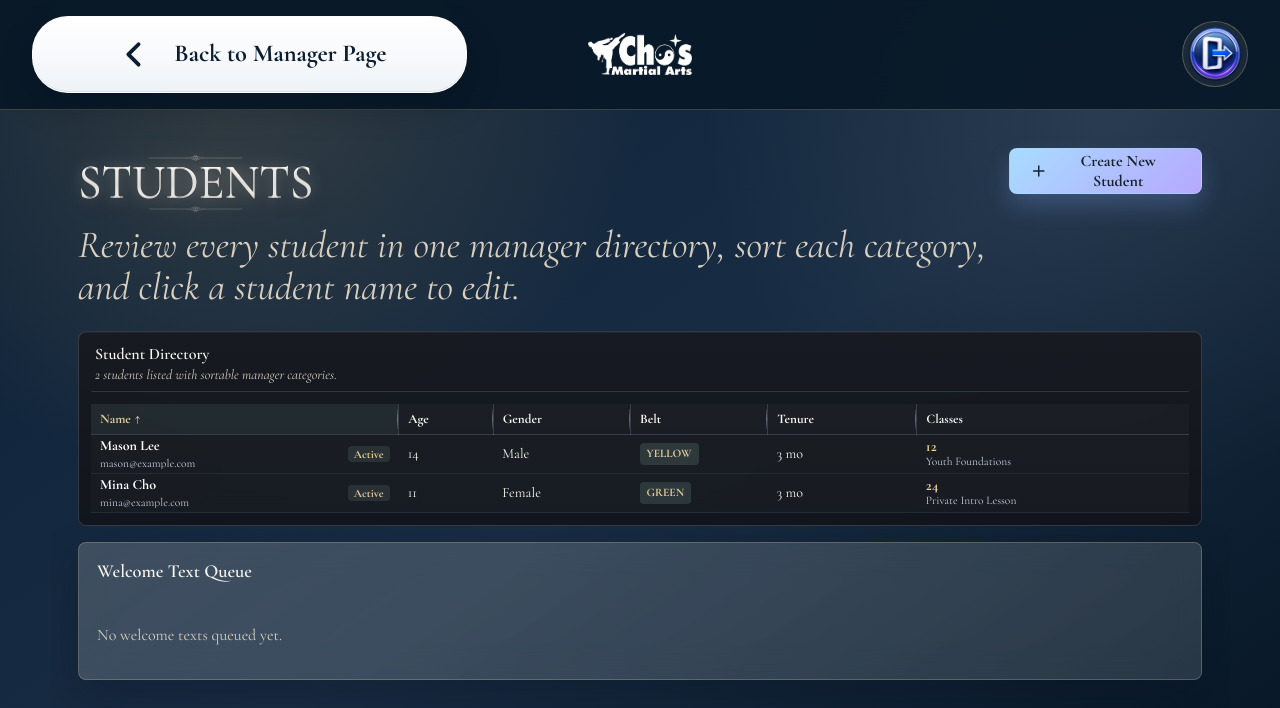
Test: post-login operations app › lets managers create a new student from the restored students page
expect the heading "Students" is shown: met, box left=78, top=162, right=313, bottom=202
expect the heading "Student Directory" is shown: met, box left=95, top=344, right=209, bottom=364
Click the button "Create New Student".
click(1105, 171)  # box left=1009, top=148, right=1202, bottom=194
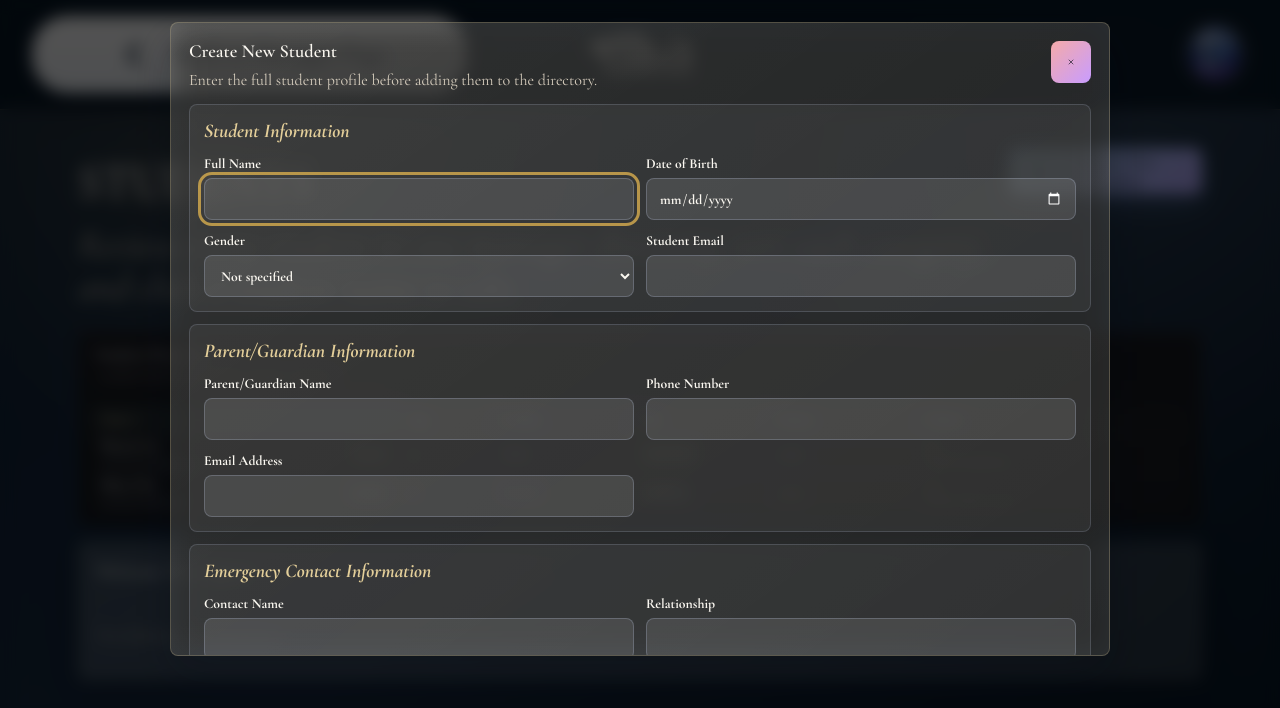
Type "Leo Park" into the field labelled "Full Name".
click(419, 199); type("Leo Park")  # box left=204, top=178, right=634, bottom=220
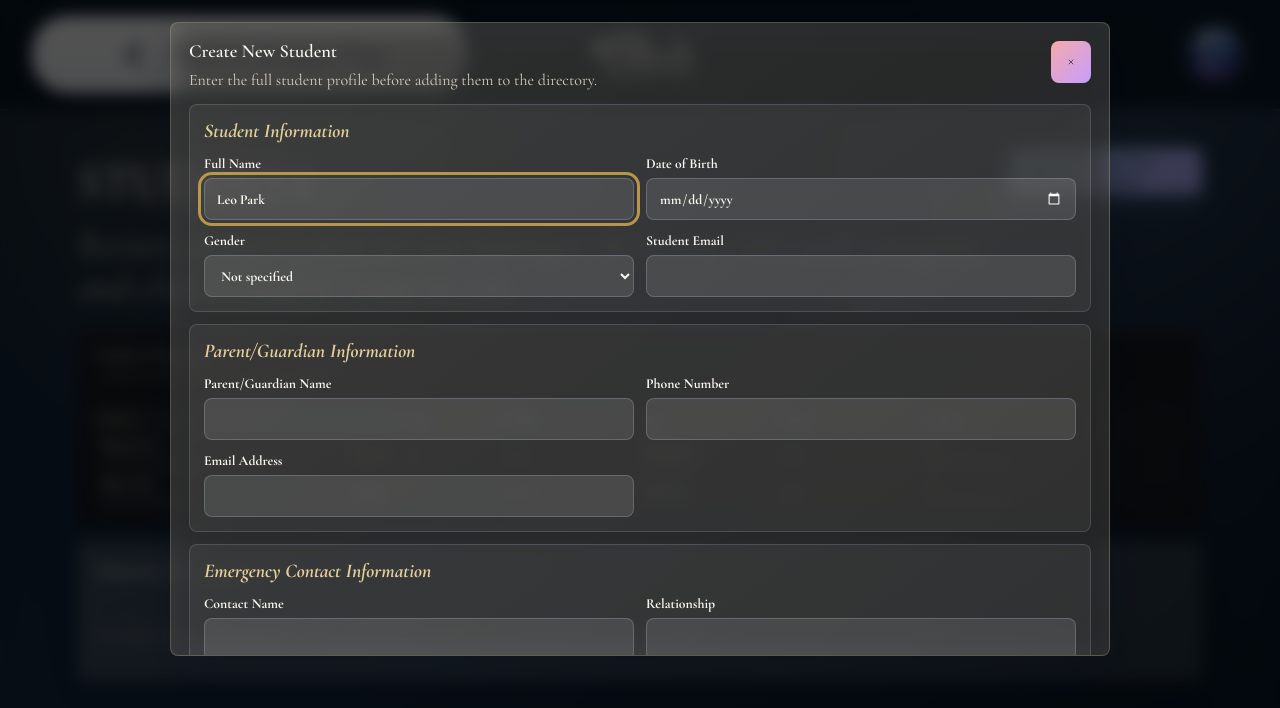
Type "leo@example.com" into the field labelled "Student Email".
click(861, 276); type("leo@example.com")  # box left=646, top=255, right=1076, bottom=297
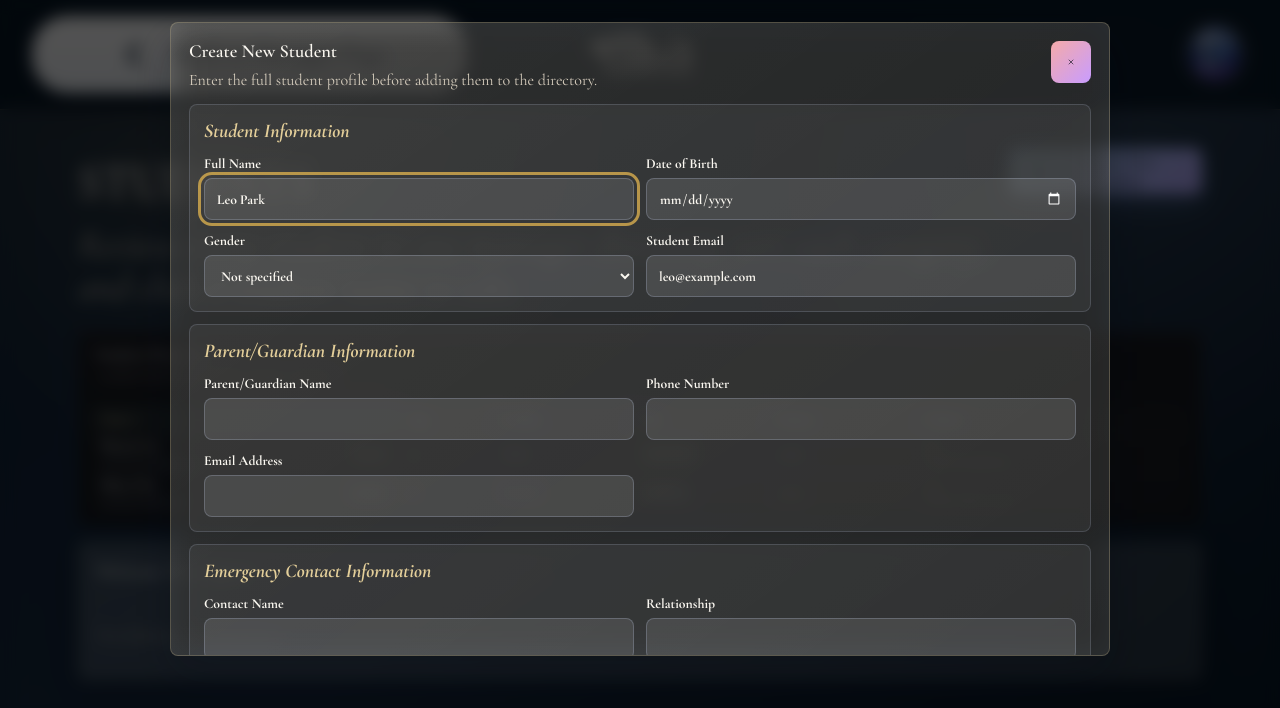
Type "(262) 555-0188" into the field named "Parent/Guardian Phone Number".
click(861, 419); type("(262) 555-0188")  # box left=646, top=398, right=1076, bottom=440
(page scrolled)
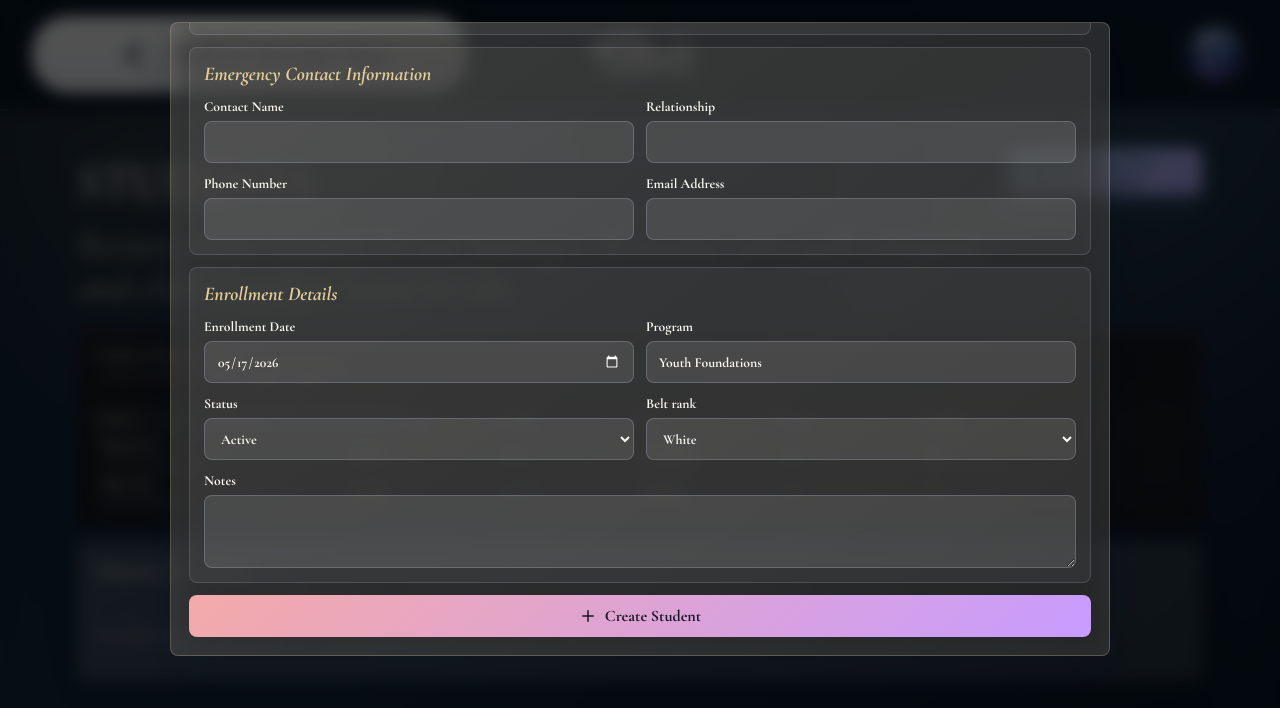
Click the button "Create Student".
click(640, 616)  # box left=189, top=595, right=1091, bottom=637
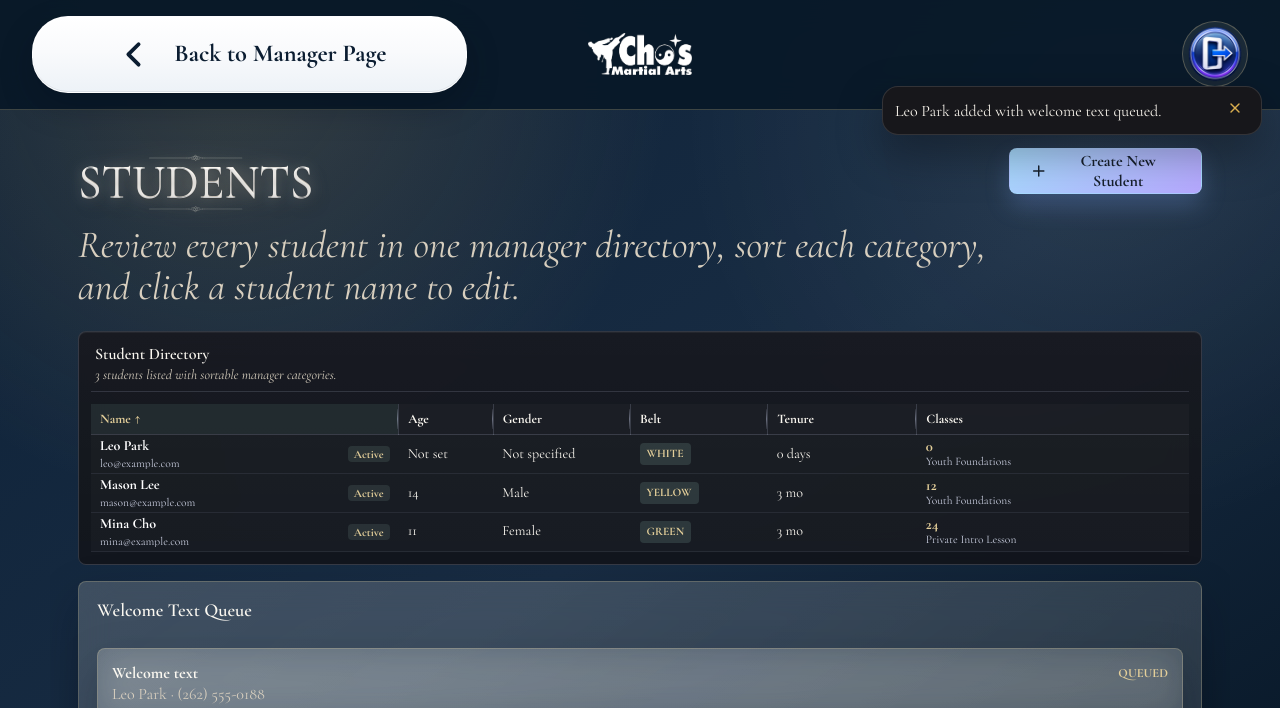
expect the text "Leo Park" is shown: met, box left=100, top=437, right=149, bottom=454
expect the text "Active" next to "Not set" is shown: met, box left=354, top=447, right=384, bottom=461
